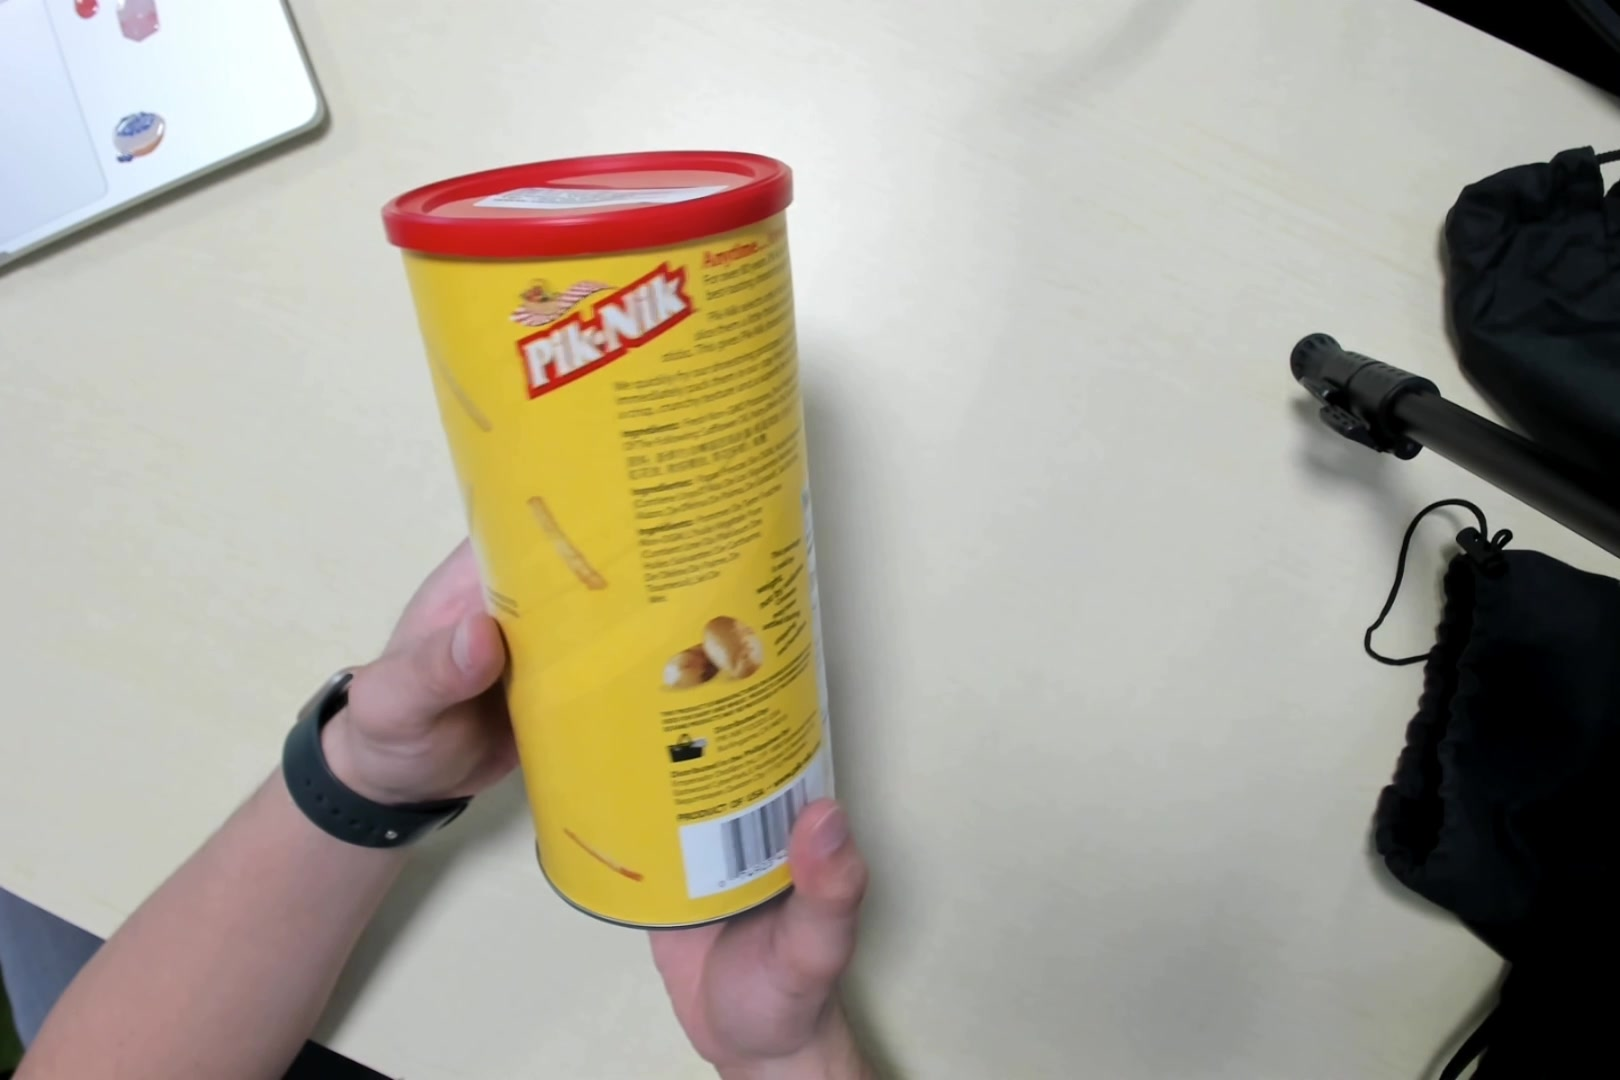PotatoChipsKeropok_200-299g_NonHalal_NonHealthy: (393, 155, 847, 923)
